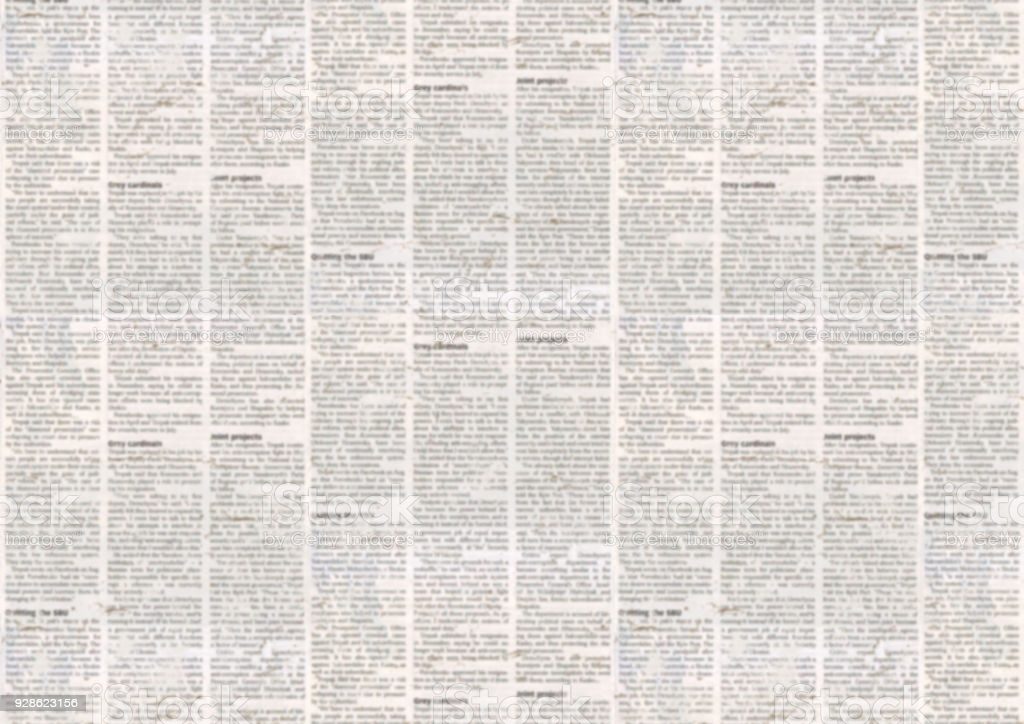news_paper: (5, 2, 1024, 716)
